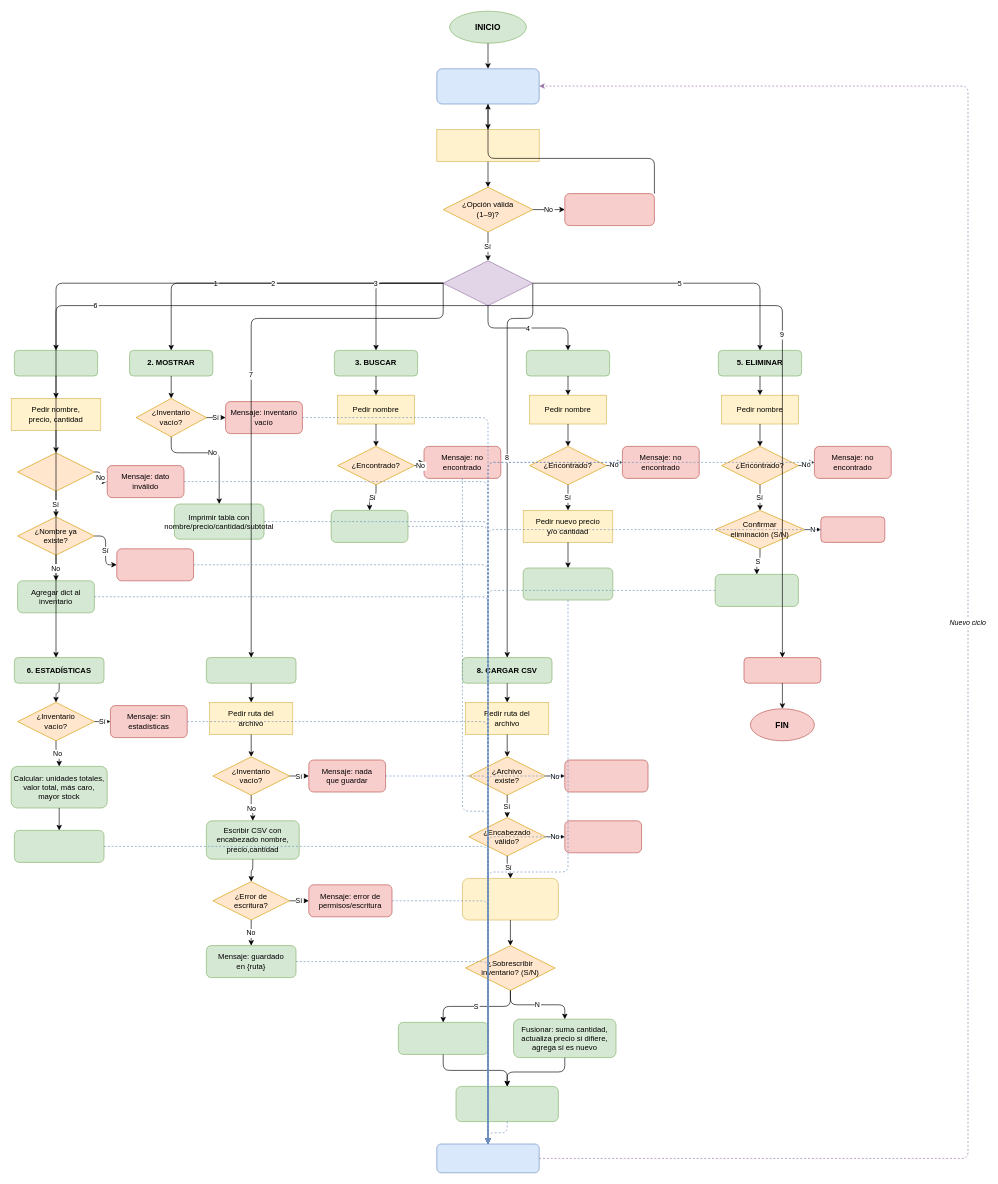
This 998x1184 diagram has some shape labels left out. The shapes that lost their labels are listed below. From the top down, each one's box as (x1, y1, x2, y2) in pixels, then its label:
(436, 68, 539, 104): Mostrar Menú Principal (1–9)
(436, 129, 539, 162): Leer opción del usuario
(564, 193, 654, 226): Mostrar error: opción inválida
(443, 260, 533, 306): ¿Qué opción?
(14, 350, 98, 376): 1. AGREGAR
(526, 350, 610, 376): 4. ACTUALIZAR
(17, 452, 94, 491): ¿Datos válidos?
(331, 510, 408, 542): Mostrar datos del producto
(820, 516, 885, 542): Cancelado
(116, 548, 194, 581): Mensaje: producto ya existe
(523, 567, 613, 600): Actualizar campos en el dict
(715, 574, 798, 606): Eliminar de la lista
(206, 657, 296, 683): 7. GUARDAR CSV
(743, 657, 821, 683): 9. SALIR
(564, 759, 648, 792): Mensaje: archivo no encontrado
(14, 830, 104, 862): Mostrar resultados formateados
(564, 820, 642, 853): Mensaje: formato inválido
(462, 878, 558, 920): Leer filas, validar tipos y valores. Contar filas inválidas
(398, 1022, 488, 1054): Reemplazar inventario completo
(455, 1086, 558, 1122): Mostrar resumen: cargados / inválidos / acción
(436, 1143, 539, 1173): Volver al Menú
